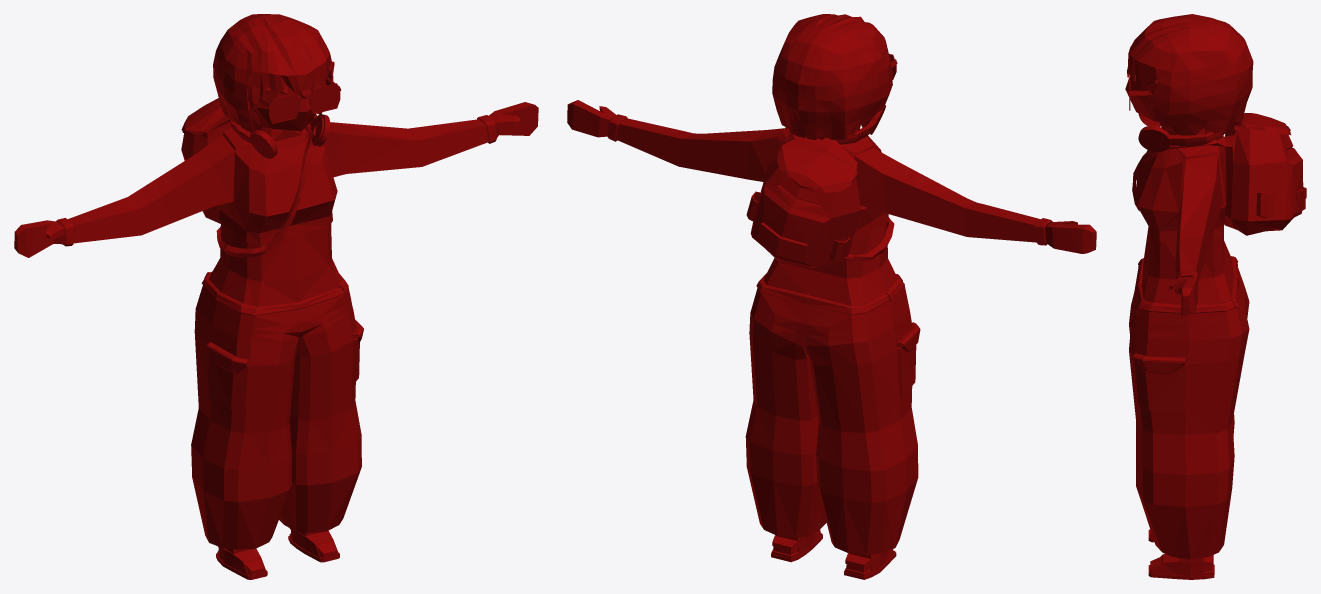
File: player.dae
3 renders of one model, left to right at view 1: azimuth 30°, elevation 25°; view 2: azimuth 150°, elevation 25°; view 3: azimuth 270°, elevation 25°, orthographic.
Visible parts, largest first — view 1: player; view 2: player; view 3: player.
Part boxes in pixels (left/top/right/bottom): player: left=14, top=14, right=538, bottom=579; player: left=567, top=14, right=1096, bottom=579; player: left=1125, top=14, right=1306, bottom=579.
Bounding box in the file's own units: 4.76 × 1.43 × 4.65.
